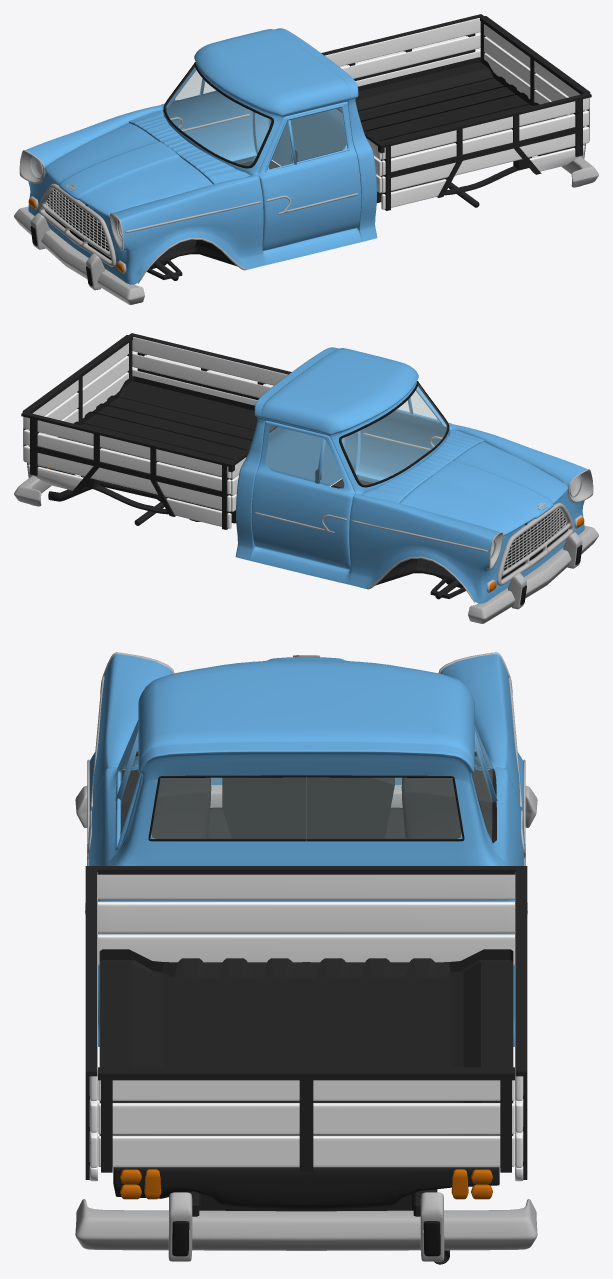
File: Rastrojero04.glb
3 renders of one model, top to bottom at view 1: azimuth 30°, elevation 25°; view 2: azimuth 150°, elevation 25°; view 3: azimuth 270°, elevation 25°, orthographic. The views are drawn at different scales.
Visible parts, largest first — view 1: Pintura, Chapa, Madera, Metal, Vidrio, Goma; view 2: Pintura, Chapa, Madera, Metal, Vidrio, Goma; view 3: Chapa, Madera, Pintura, Metal, Vidrio, Goma, LucesReversa.
Part boxes in pixels (x1,y1,x2,y2): Pintura: (25,28,377,284); Chapa: (45,14,591,280); Madera: (325,18,589,209); Metal: (14,114,598,304); Vidrio: (165,66,346,168); Goma: (30,62,585,286); Pintura: (235,347,587,603); Chapa: (21,333,567,599); Madera: (23,337,287,528); Metal: (14,433,598,623); Vidrio: (266,385,447,487); Goma: (27,381,582,605); Chapa: (85,769,527,1264); Madera: (89,872,523,1181); Pintura: (87,654,525,1046); Metal: (75,652,537,1261); Vidrio: (120,728,492,839); Goma: (135,751,477,1256); LucesReversa: (144,1169,468,1199).
Size of the model in its own units: 4.64 by 1.44 by 1.88.
